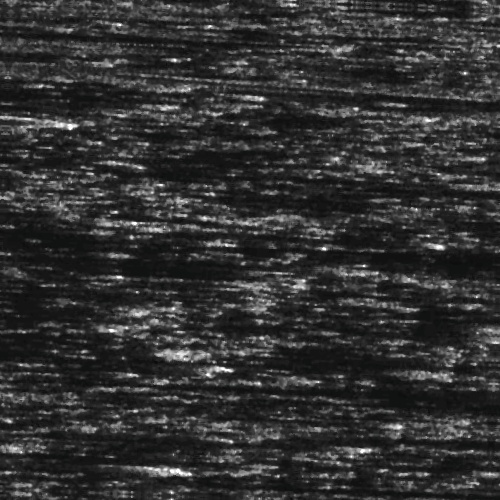object: (0, 114, 127, 143), (285, 434, 452, 447), (252, 36, 377, 49), (376, 357, 500, 366), (138, 465, 231, 476), (192, 91, 285, 98), (434, 171, 497, 176), (483, 381, 500, 390), (435, 28, 476, 31)
shadow: (0, 36, 314, 49), (105, 434, 368, 447), (163, 381, 500, 390), (0, 465, 185, 476), (283, 479, 500, 488), (279, 87, 500, 94), (0, 114, 49, 143), (68, 91, 238, 98), (376, 392, 500, 401), (328, 357, 438, 366), (233, 28, 455, 31), (413, 171, 465, 176)
